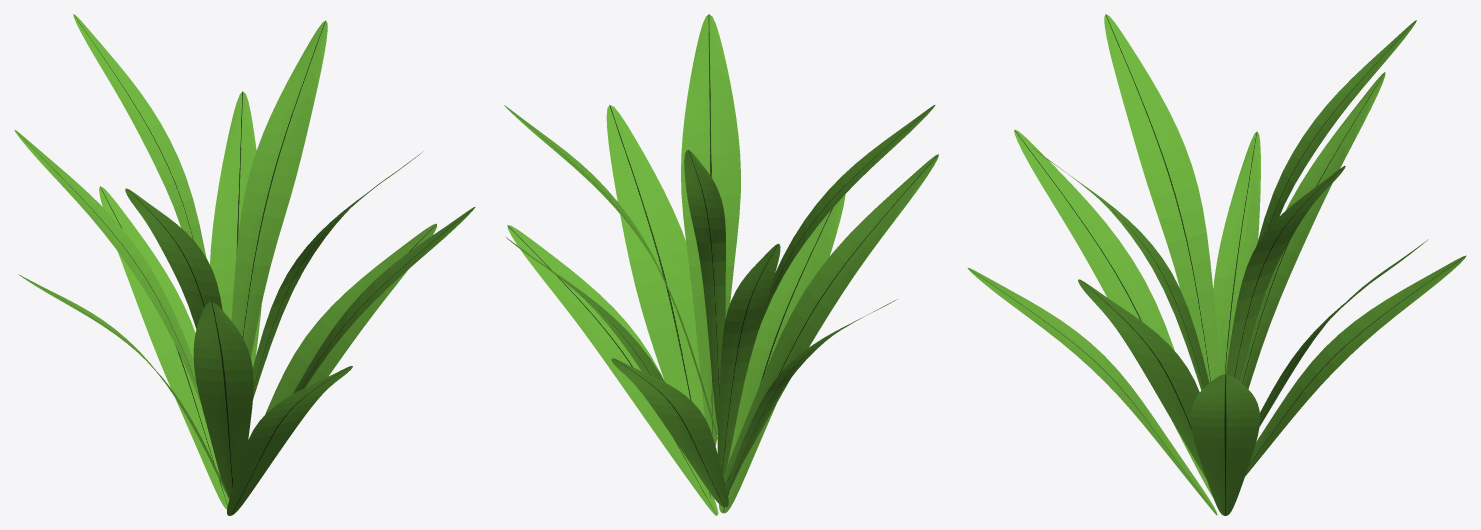
File: rumput.fbx
3 renders of one model, left to right at view 1: azimuth 30°, elevation 25°; view 2: azimuth 150°, elevation 25°; view 3: azimuth 270°, elevation 25°, orthographic. The views are drawn at different scales.
Parts seen in each view (by area): view 1: Plane; view 2: Plane; view 3: Plane.
Part boxes in pixels (bbox=[...]): Plane: bbox=[14, 14, 475, 515]; Plane: bbox=[504, 14, 938, 515]; Plane: bbox=[968, 14, 1466, 515].
Bounding box in the file's own units: 575 × 608 × 593.
